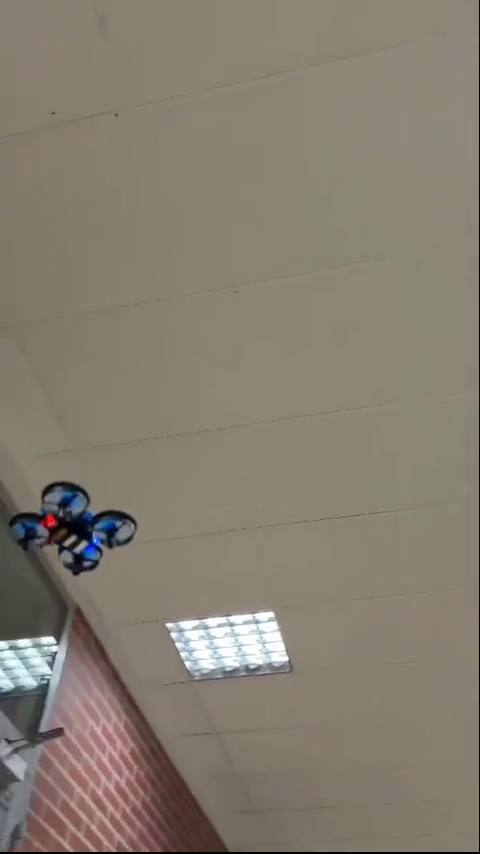drone: (6, 487, 138, 577)
